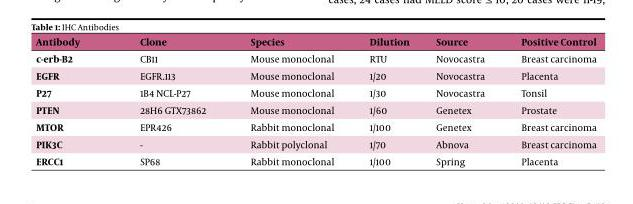table: (35, 35, 595, 166)
table column: (227, 35, 351, 166), (109, 35, 227, 166), (502, 35, 595, 166), (422, 35, 502, 166), (35, 35, 109, 166), (351, 35, 422, 166)
table column header: (35, 35, 595, 49)
table row: (35, 49, 595, 67), (35, 67, 595, 84), (35, 84, 595, 101), (35, 101, 595, 118), (35, 118, 595, 135), (35, 135, 595, 152), (35, 35, 595, 49), (35, 152, 595, 166)
